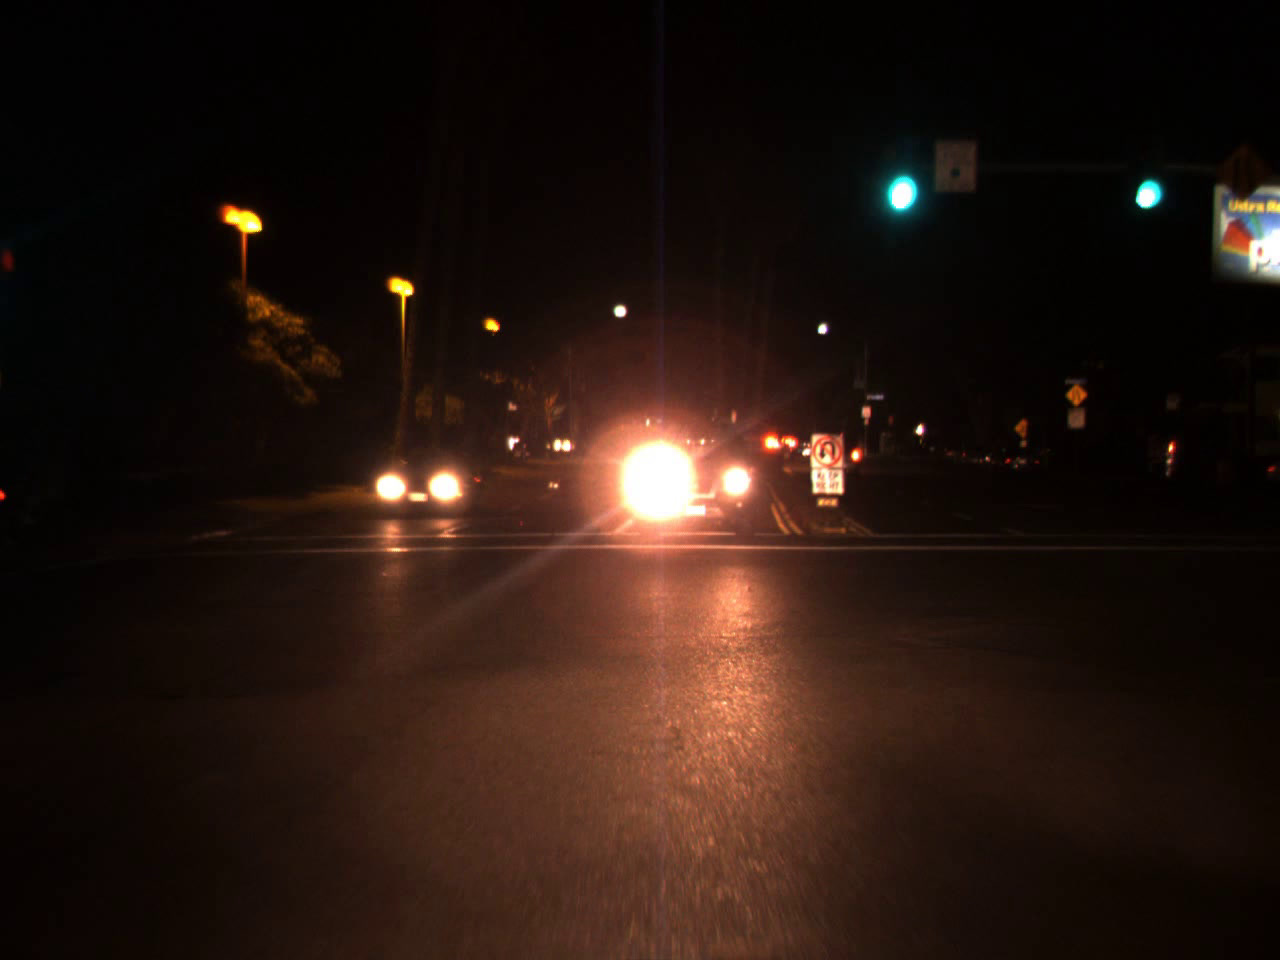go: (878, 136, 919, 223), (1124, 143, 1167, 221)
